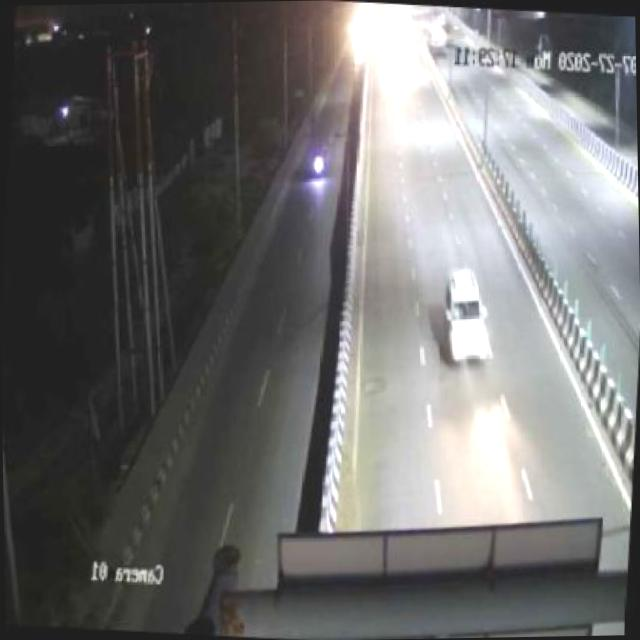car: (439, 257, 498, 372)
